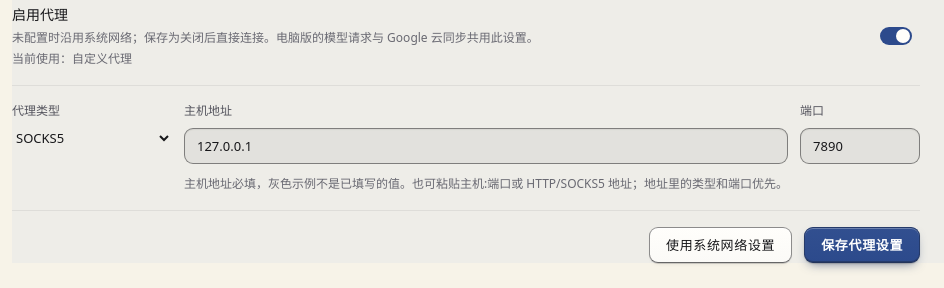
Test case: desktop system network selection › preserves the explicit-off meaning when disabling and saving a custom proxy
Click the switch at coordinates (900, 36), box x1=880 y1=27 x2=920 y2=45
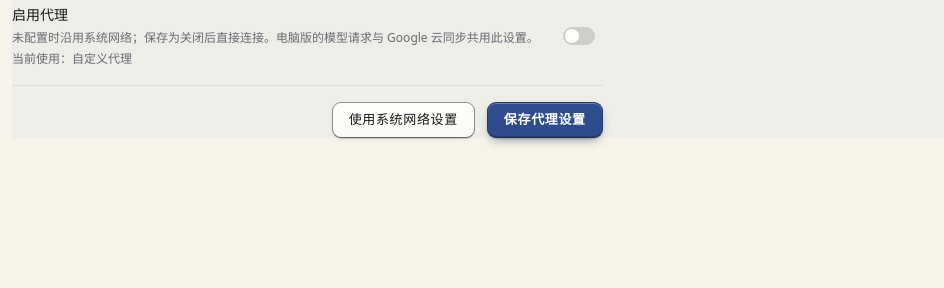
Expected: the text "当前使用：自定义代理" is shown, x1=12 y1=50 x2=132 y2=67
Click the button "保存代理设置" at coordinates (545, 120), box x1=487 y1=102 x2=603 y2=138
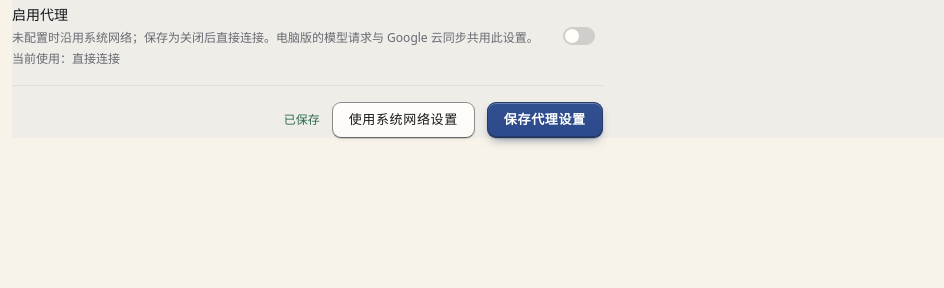
Result: the text "当前使用：直接连接" is shown at x1=12 y1=50 x2=120 y2=67
